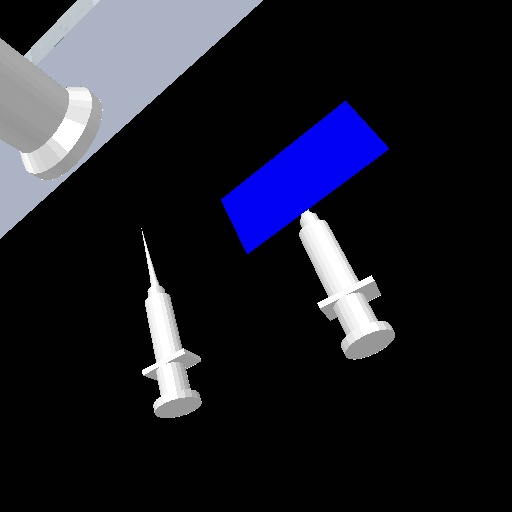jeringuilla: (122, 220, 208, 424), (297, 207, 397, 365)
